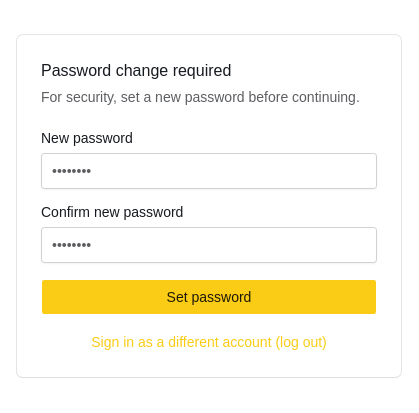
ForcePasswordChangePage › shows a generic error (not the current-password-wrong message) when the mutation fails
Type "password123" into the password field with test id "force-new-password-input" at (209,171), box [41,153,377,189]
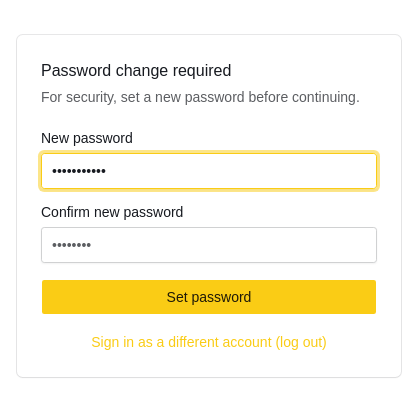
Type "password123" into the password field with test id "force-confirm-password-input" at (209,245), box [41,227,377,263]
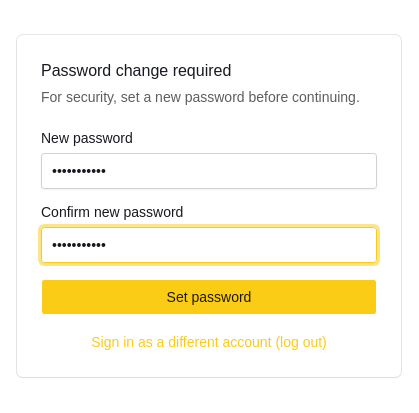
Click the button with test id "force-password-submit" at (209,297), box [41,279,377,315]
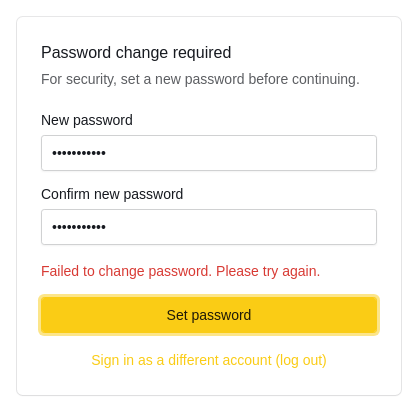
Result: the text "Failed to change password. Please try again." is shown at [41,263,320,279]
